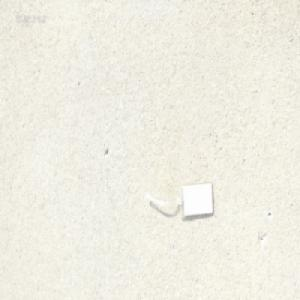LuggageTag: (143, 180, 214, 219)
